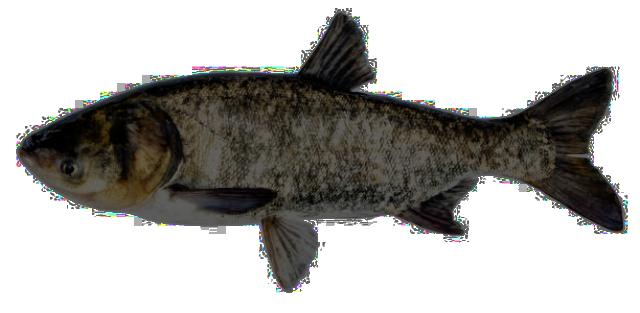Healthy Fish: (19, 14, 622, 291)
